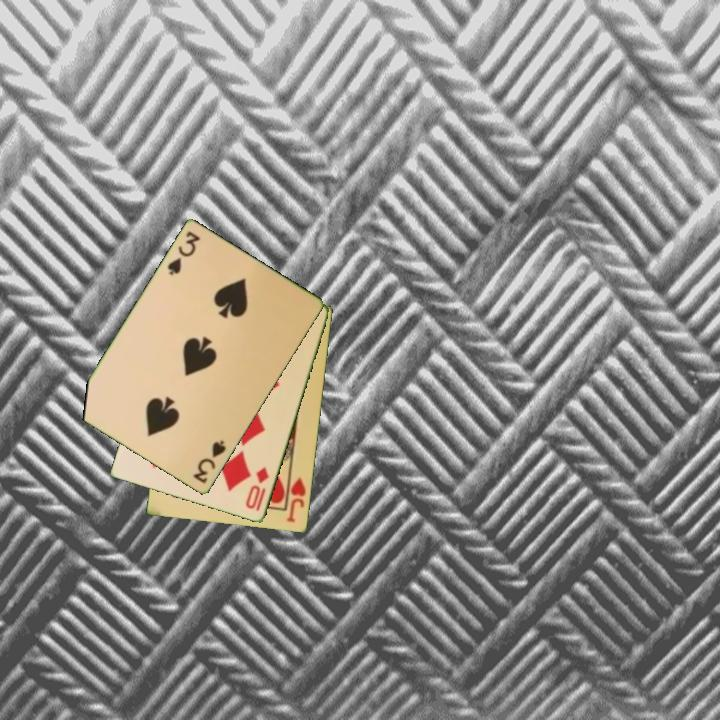10d: (242, 463, 272, 515)
3s: (189, 437, 229, 487), (164, 228, 203, 279)
Jh: (283, 474, 309, 526)
